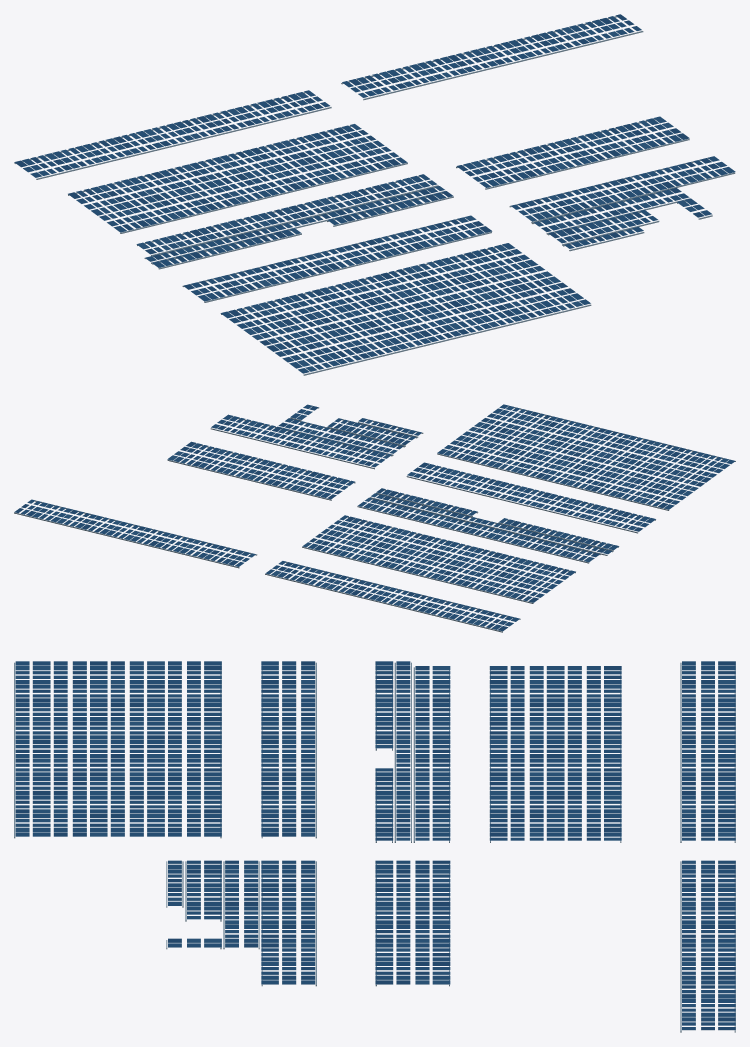
The model's file is SM_MPRH_SolarBank_02_0_LOD2.fbx.
The picture shows the model from 3 angles, top to bottom: view 1: azimuth 30°, elevation 25°; view 2: azimuth 150°, elevation 25°; view 3: azimuth 270°, elevation 25°; orthographic projection. The views are drawn at different scales.
Parts seen in each view (by area): view 1: SM_MPRH_SolarBank_02_0_LOD2; view 2: SM_MPRH_SolarBank_02_0_LOD2; view 3: SM_MPRH_SolarBank_02_0_LOD2.
Boxes of the visible parts, x1,y1,x2,y2 form: SM_MPRH_SolarBank_02_0_LOD2: (14, 14, 735, 375); SM_MPRH_SolarBank_02_0_LOD2: (14, 404, 735, 632); SM_MPRH_SolarBank_02_0_LOD2: (14, 661, 735, 1032).
Size of the model in its own units: 8944 by 7395 by 24.6.
